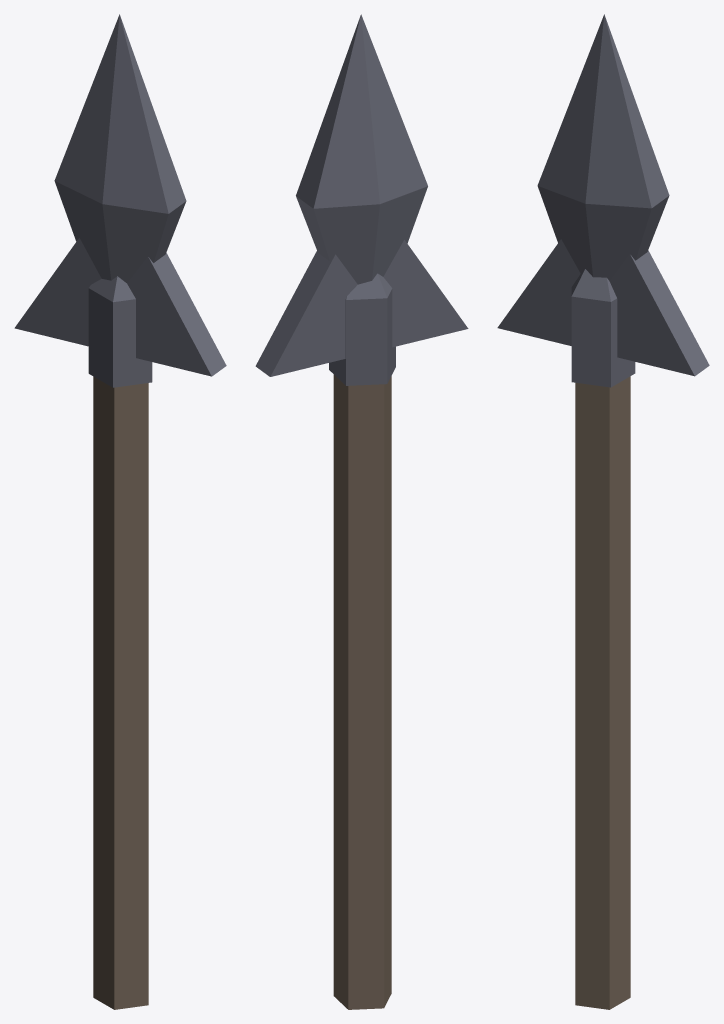
Rendered from Archer_shell_LVL_4.fbx.
3 views of the same model, side by side, from view 1: azimuth 90°, elevation 25°; view 2: azimuth 150°, elevation 25°; view 3: azimuth 270°, elevation 25° (orthographic).
Parts seen in each view (by area): view 1: Archer_shell_LVL_4; view 2: Archer_shell_LVL_4; view 3: Archer_shell_LVL_4.
Part boxes in pixels (bbox=[...]): Archer_shell_LVL_4: bbox=[14, 14, 226, 1009]; Archer_shell_LVL_4: bbox=[255, 14, 468, 1009]; Archer_shell_LVL_4: bbox=[497, 14, 709, 1009].
Size of the model in its own units: 28.17 by 219 by 42.79.
